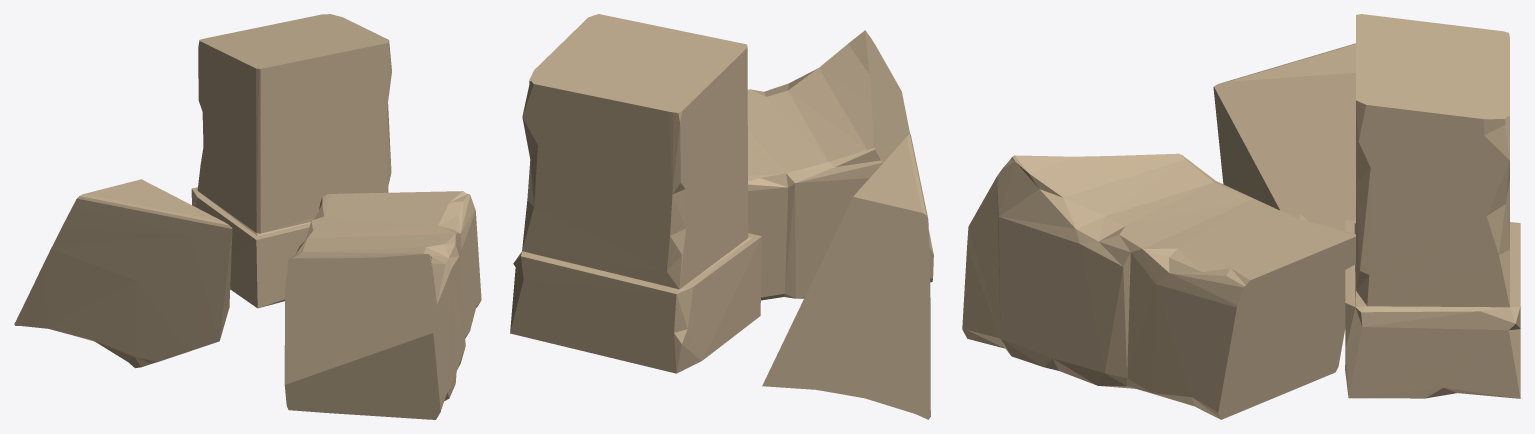
File: SM_stone_debris_10.fbx
3 views of the same model, side by side, from view 1: azimuth 30°, elevation 25°; view 2: azimuth 150°, elevation 25°; view 3: azimuth 270°, elevation 25° (orthographic). The views are drawn at different scales.
Parts seen in each view (by area): view 1: stone_debris_10; view 2: stone_debris_10; view 3: stone_debris_10.
Boxes of the visible parts, x1=… form: stone_debris_10: x1=14, y1=14, x2=481, y2=419; stone_debris_10: x1=510, y1=14, x2=933, y2=419; stone_debris_10: x1=962, y1=14, x2=1520, y2=419.
Bounding box in the file's own units: 486 × 325 × 500.
